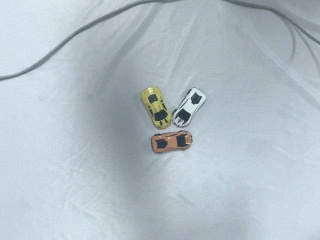phone: (172, 87, 207, 128)
toy_car: (141, 87, 171, 129), (151, 131, 193, 153)
